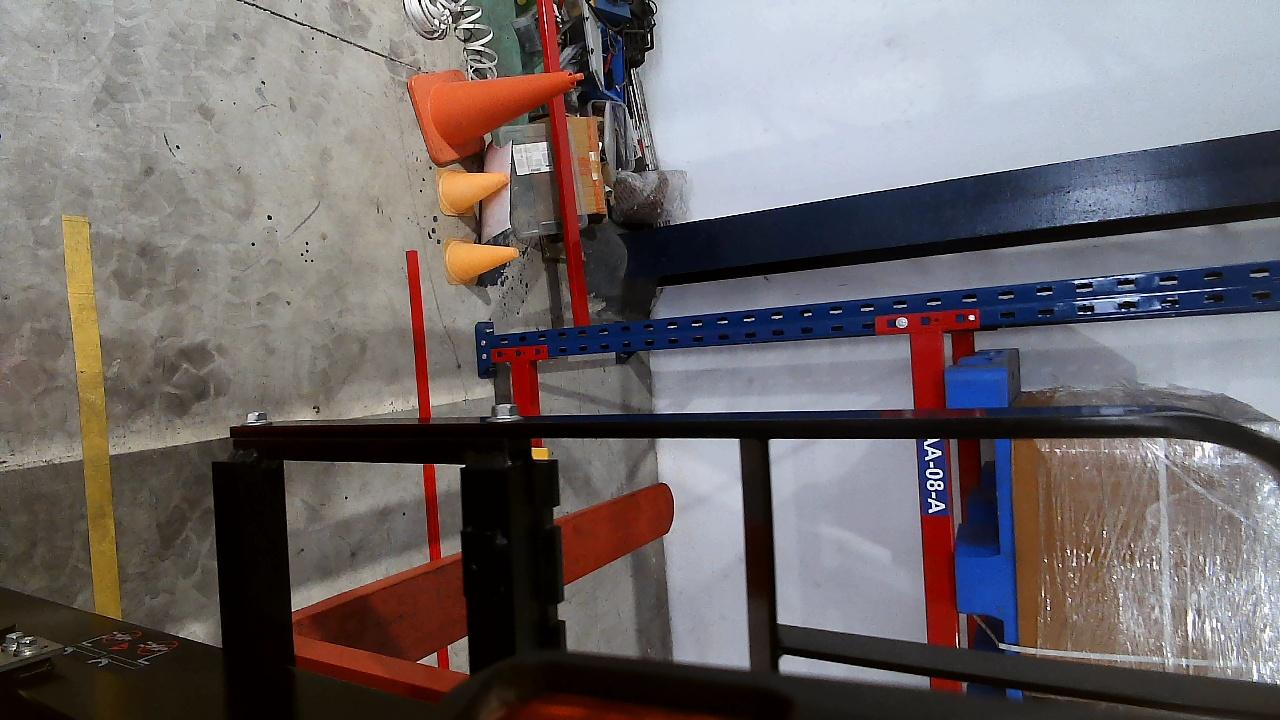h_rack: (912, 334, 951, 645)
red_line: (404, 249, 449, 555)
small_pallet: (948, 367, 1015, 646)
yellow_line: (58, 215, 119, 619)
